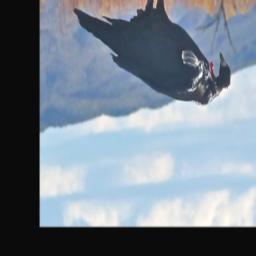Crow: (72, 0, 233, 108)
